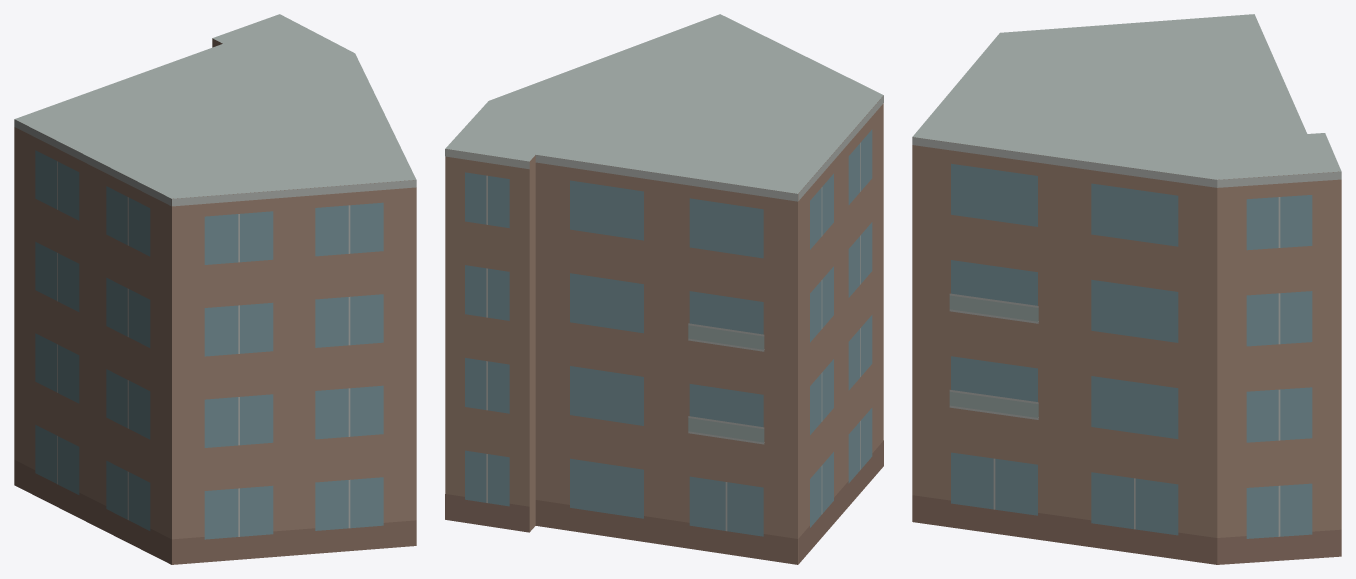
File: survey-upis-32683436.glb
3 renders of one model, left to right at view 1: azimuth 30°, elevation 25°; view 2: azimuth 150°, elevation 25°; view 3: azimuth 270°, elevation 25°, orthographic. The views are drawn at different scales.
Parts seen in each view (by area): view 1: survey-upis-32683436.tmp; view 2: survey-upis-32683436.tmp; view 3: survey-upis-32683436.tmp.
Part boxes in pixels (left/top/right/bottom): survey-upis-32683436.tmp: left=14, top=14, right=416, bottom=564; survey-upis-32683436.tmp: left=445, top=14, right=883, bottom=564; survey-upis-32683436.tmp: left=912, top=14, right=1341, bottom=564.
Size of the model in its own units: 10.82 by 11.7 by 11.83.
